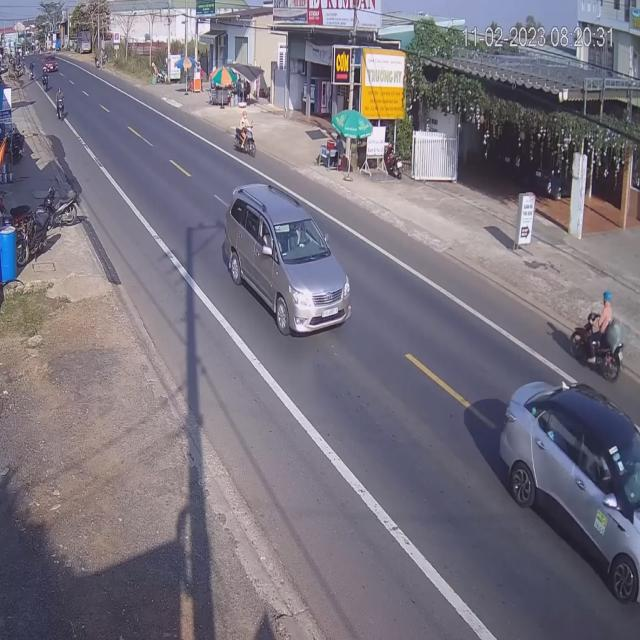car: (494, 364, 640, 606), (223, 183, 351, 339)
motorbike: (568, 296, 624, 384), (234, 116, 256, 158), (55, 88, 67, 123)
